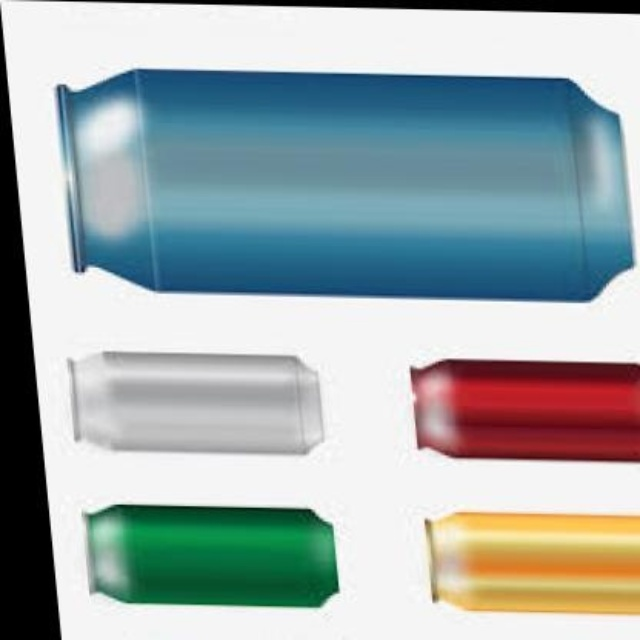trash: (60, 71, 631, 298), (88, 505, 337, 606), (71, 352, 322, 452), (411, 360, 638, 458), (426, 512, 638, 612)
